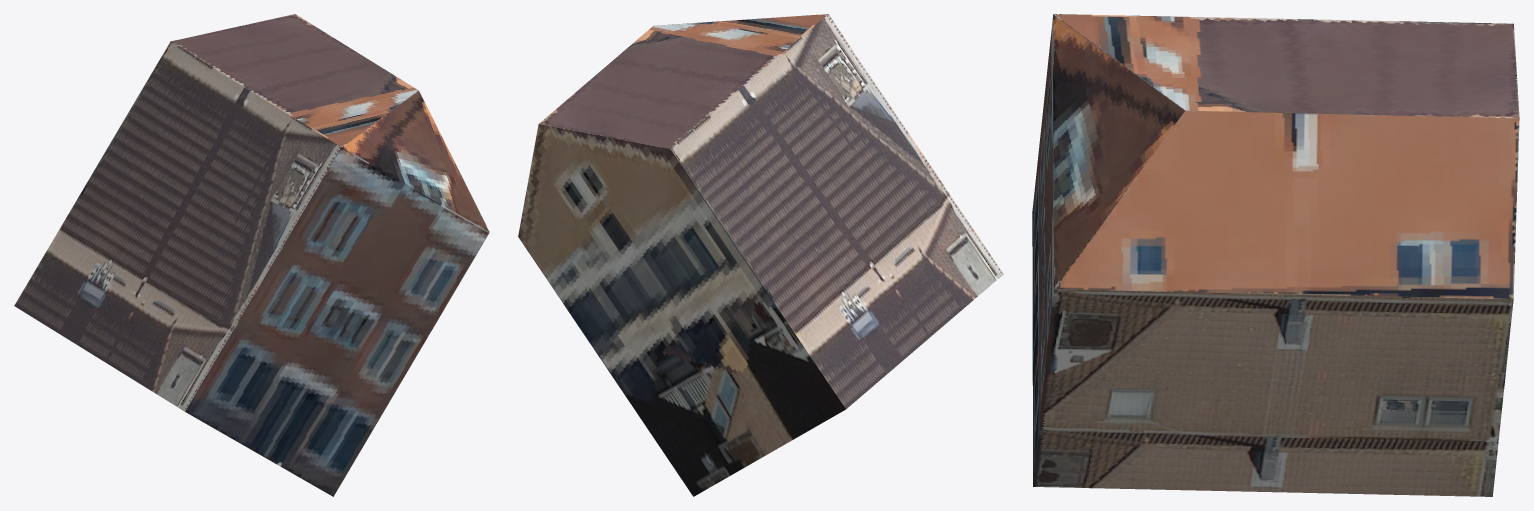
3 renders of one model, left to right at view 1: azimuth 30°, elevation 25°; view 2: azimuth 150°, elevation 25°; view 3: azimuth 270°, elevation 25°, orthographic. The views are drawn at different scales.
Visible parts, largest first — view 1: BAG_0599100000760394; view 2: BAG_0599100000760394 (×2); view 3: BAG_0599100000760394 (×2).
Part boxes in pixels (<box>): BAG_0599100000760394: <box>14,14,489,496</box>; BAG_0599100000760394 (×2): <box>518,14,1003,496</box>; BAG_0599100000760394 (×2): <box>1032,14,1519,496</box>.
Bounding box in the file's own units: 13.42 × 14.07 × 12.44.
Materials: 1 (1 with a texture image).
